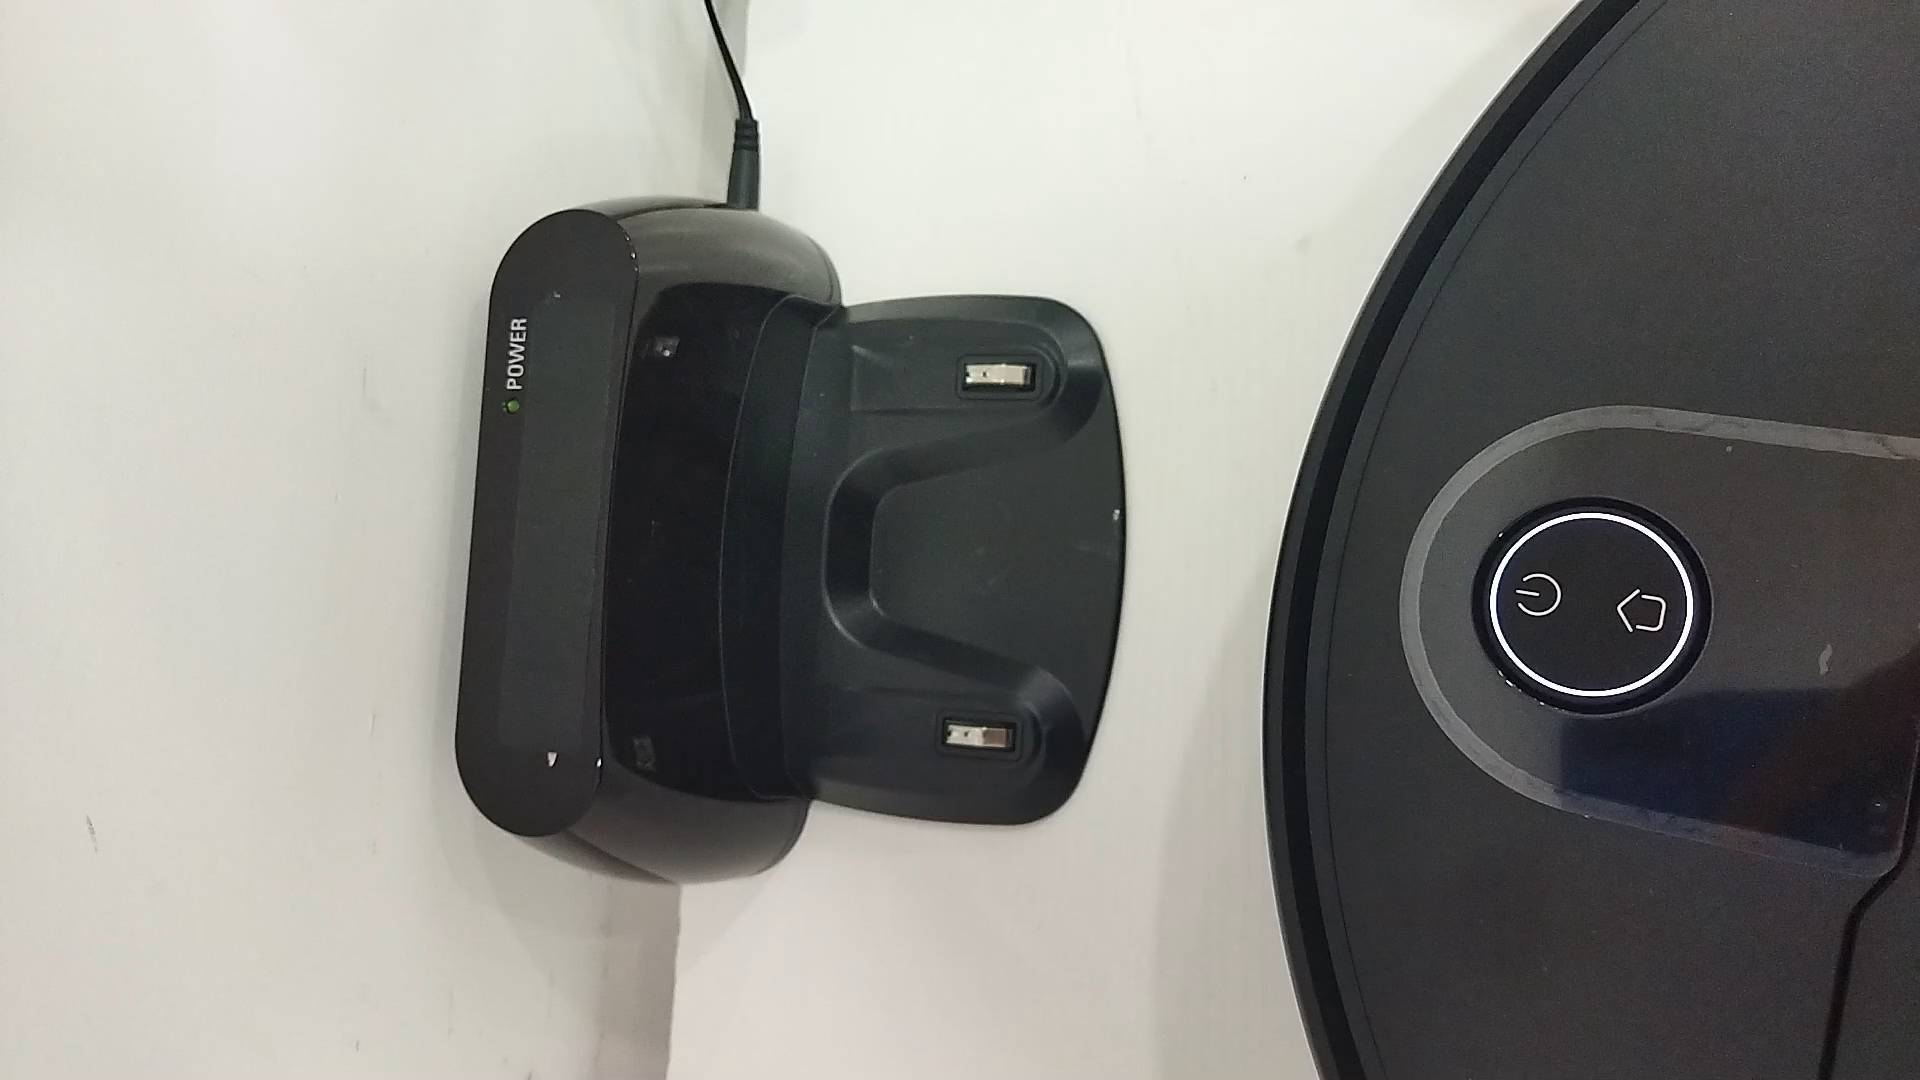recharge seat: (458, 193, 1129, 884)
